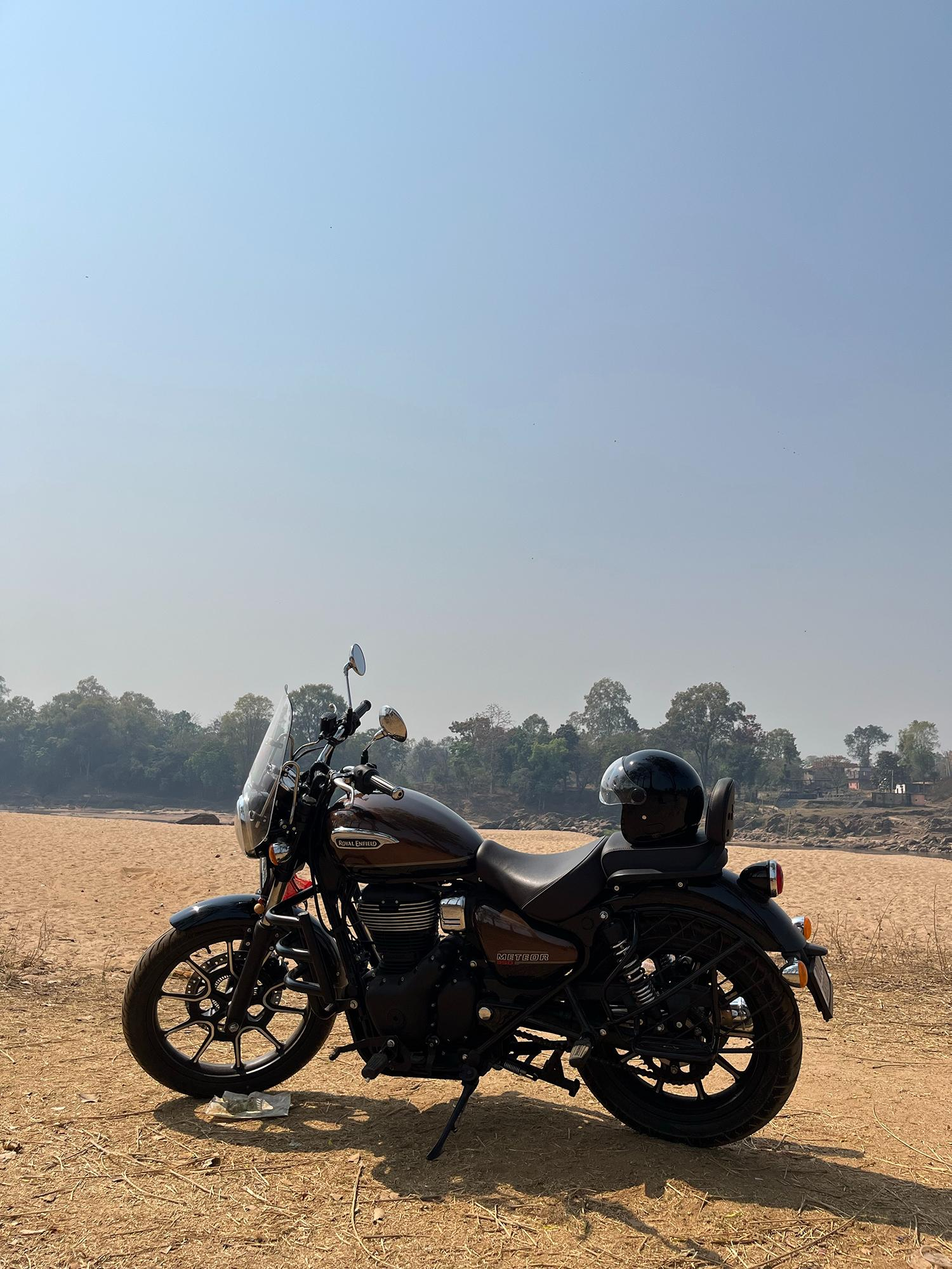helmet: (598, 748, 706, 846)
